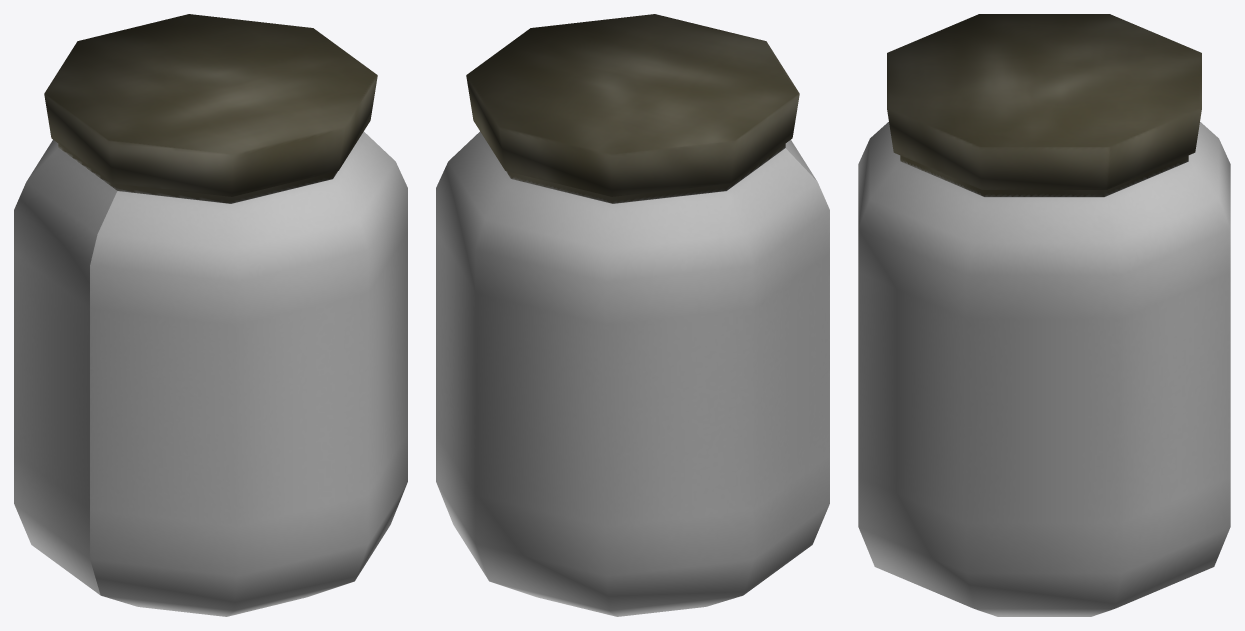
The model's file is FireFlyJar.fbx.
3 renders of one model, left to right at view 1: azimuth 30°, elevation 25°; view 2: azimuth 150°, elevation 25°; view 3: azimuth 270°, elevation 25°, orthographic.
Visible parts, largest first — view 1: FireFlyJarGlass, FireFliesJar; view 2: FireFlyJarGlass, FireFliesJar; view 3: FireFlyJarGlass, FireFliesJar.
Boxes of the visible parts, box(x1,y1,x2,y2) form: FireFlyJarGlass: box(14, 131, 407, 616); FireFliesJar: box(44, 14, 377, 203); FireFlyJarGlass: box(436, 131, 829, 616); FireFliesJar: box(466, 14, 799, 203); FireFlyJarGlass: box(858, 122, 1230, 616); FireFliesJar: box(887, 14, 1201, 196).
Size of the model in its own units: 231 by 335 by 231.
